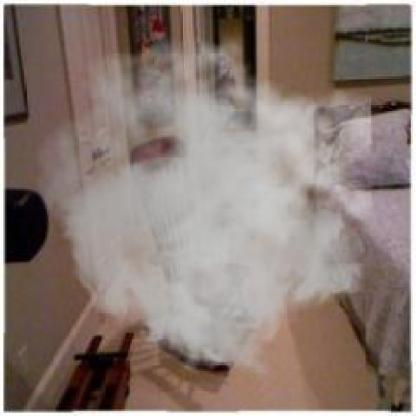Smoke: (35, 28, 372, 380)
